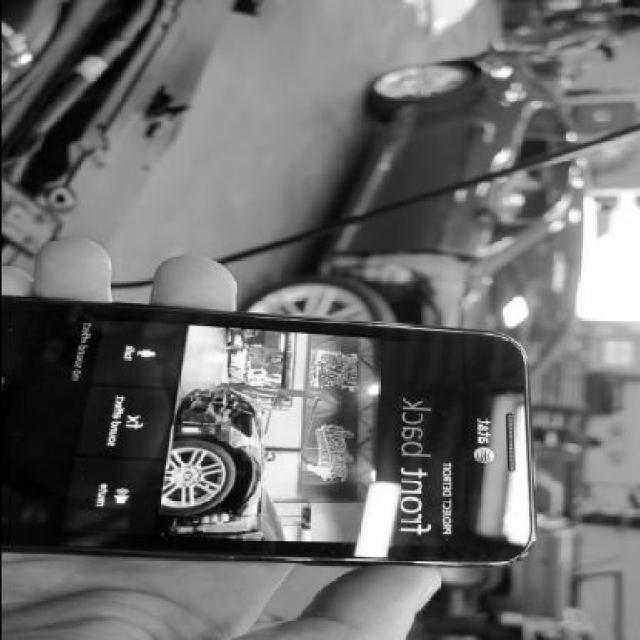fake: (6, 294, 557, 568)
